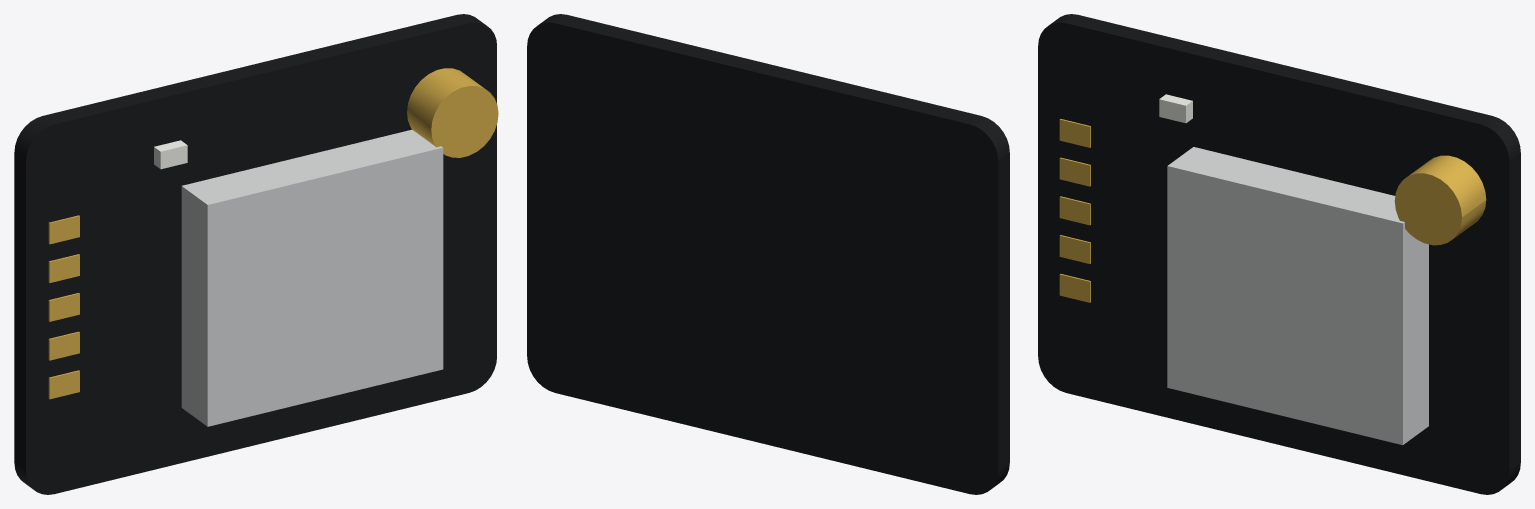
Rendered from betafpv-air-vtx.glb.
3 renders of one model, left to right at view 1: azimuth 30°, elevation 25°; view 2: azimuth 150°, elevation 25°; view 3: azimuth 330°, elevation 25°, orthographic.
Parts seen in each view (by area): view 1: board, rf_shield, ufl_connector, led, pad_1, pad_4, pad_5, pad_2, pad_3; view 2: board; view 3: board, rf_shield, ufl_connector, led, pad_1, pad_3, pad_4, pad_2, pad_5.
Boxes of the visible parts, <box> form: board: <box>14,14,496,494</box>; rf_shield: <box>181,129,443,426</box>; ufl_connector: <box>407,68,498,157</box>; led: <box>154,140,187,169</box>; pad_1: <box>48,370,79,399</box>; pad_4: <box>48,254,79,283</box>; pad_5: <box>48,215,79,244</box>; pad_2: <box>48,331,79,360</box>; pad_3: <box>48,293,79,321</box>; board: <box>527,14,1009,494</box>; board: <box>1038,14,1520,494</box>; rf_shield: <box>1167,147,1428,445</box>; ufl_connector: <box>1394,155,1486,245</box>; led: <box>1159,94,1192,123</box>; pad_1: <box>1059,274,1090,302</box>; pad_3: <box>1059,196,1090,225</box>; pad_4: <box>1059,157,1090,186</box>; pad_2: <box>1059,235,1090,263</box>; pad_5: <box>1059,119,1090,147</box>.
Size of the model in its own units: 14 by 10.5 by 1.95.
